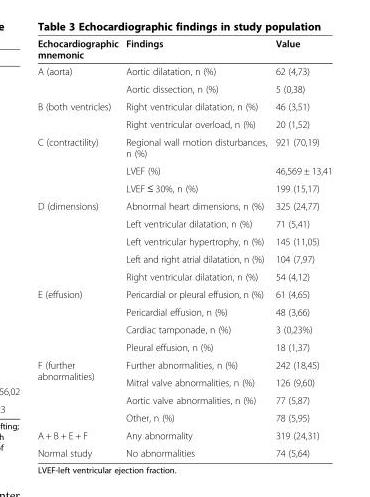table: (36, 37, 331, 458)
table column: (121, 37, 270, 458), (36, 37, 121, 458), (270, 37, 331, 458)
table column header: (36, 37, 331, 62)
table row: (36, 132, 331, 161), (36, 37, 331, 62), (36, 79, 331, 97), (36, 97, 331, 115), (36, 161, 331, 179), (36, 196, 331, 214), (36, 214, 331, 232), (36, 249, 331, 267), (36, 267, 331, 285), (36, 302, 331, 320), (36, 320, 331, 338), (36, 355, 331, 373), (36, 373, 331, 391), (36, 408, 331, 426), (36, 62, 331, 79), (36, 115, 331, 132), (36, 179, 331, 196), (36, 232, 331, 249), (36, 285, 331, 302), (36, 338, 331, 355), (36, 391, 331, 408), (36, 426, 331, 443), (36, 443, 331, 458)
table spanning cell: (36, 196, 121, 285), (36, 355, 121, 426), (36, 285, 121, 355), (36, 132, 121, 196), (36, 62, 121, 97), (36, 97, 121, 132)
